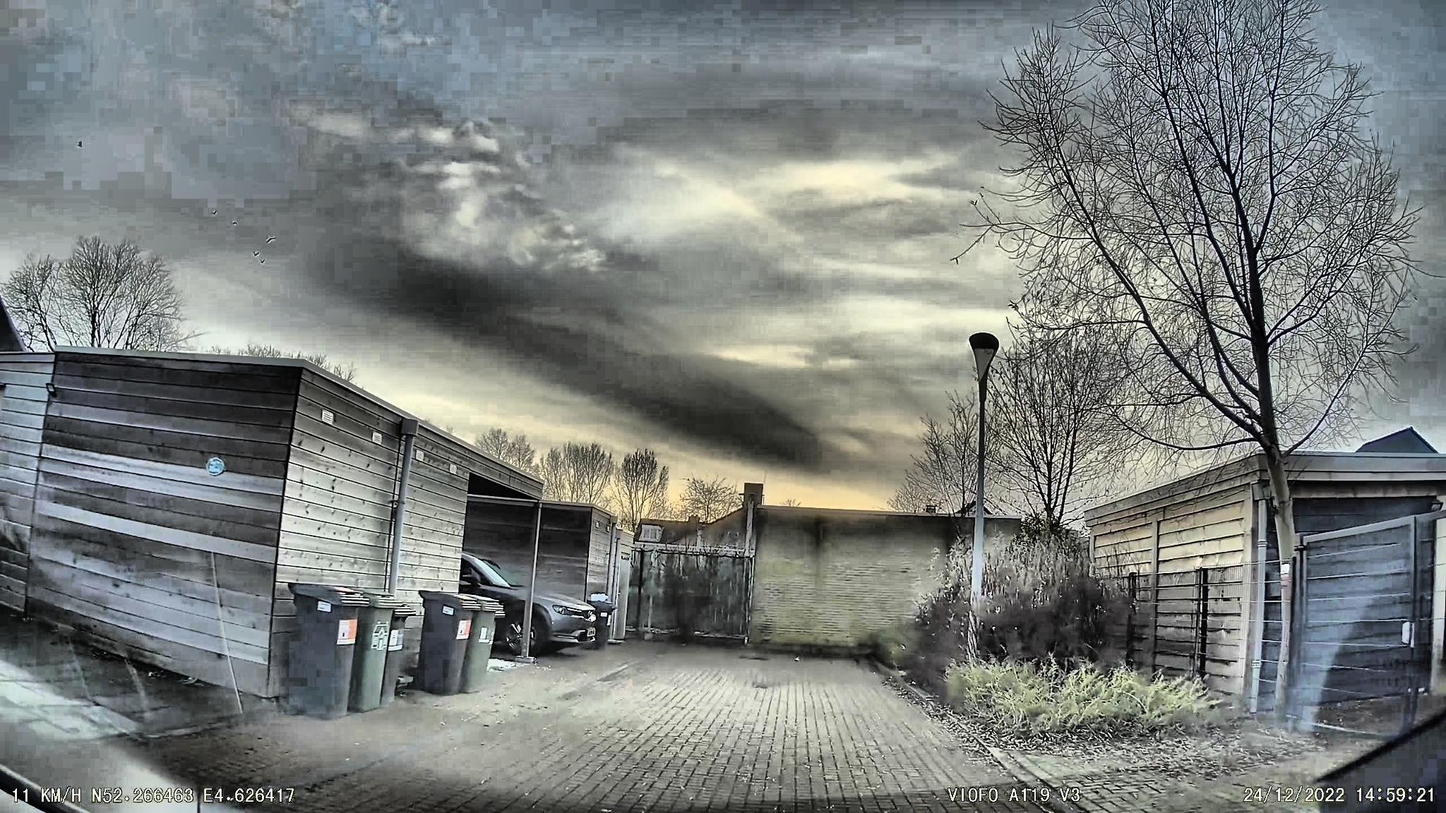Roads: (0, 646, 1446, 813)
